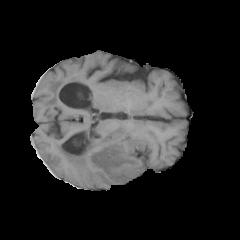glioma: (52, 126, 156, 184)
